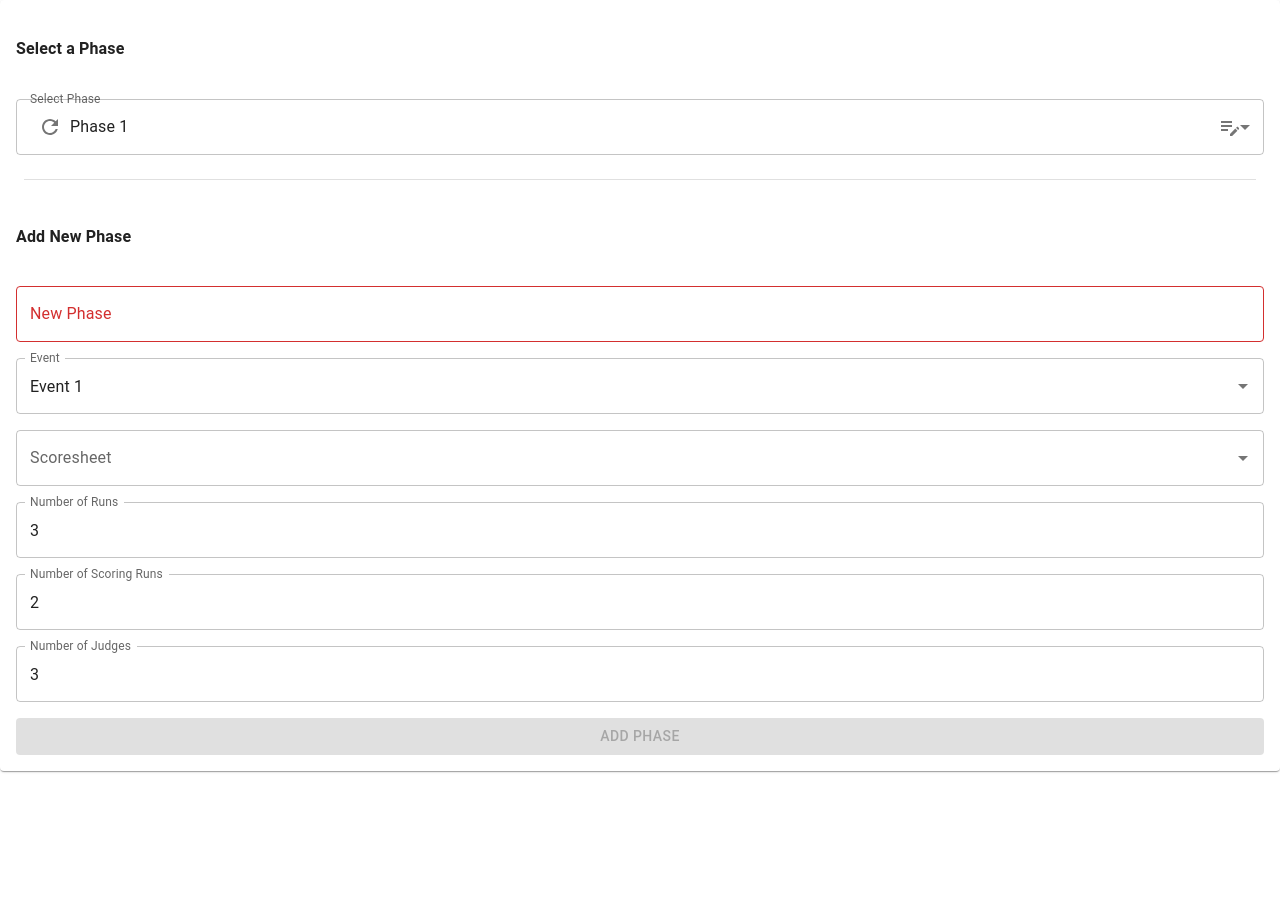
Test: PhaseSelector › edits an existing phase and shows the new name in the selector
expect the text "Select Phase" is shown: met, box [30,90,101,107]
Step 1. Click the button named "Edit selected phase" → point(1230, 126), box [1210,106,1250,146]
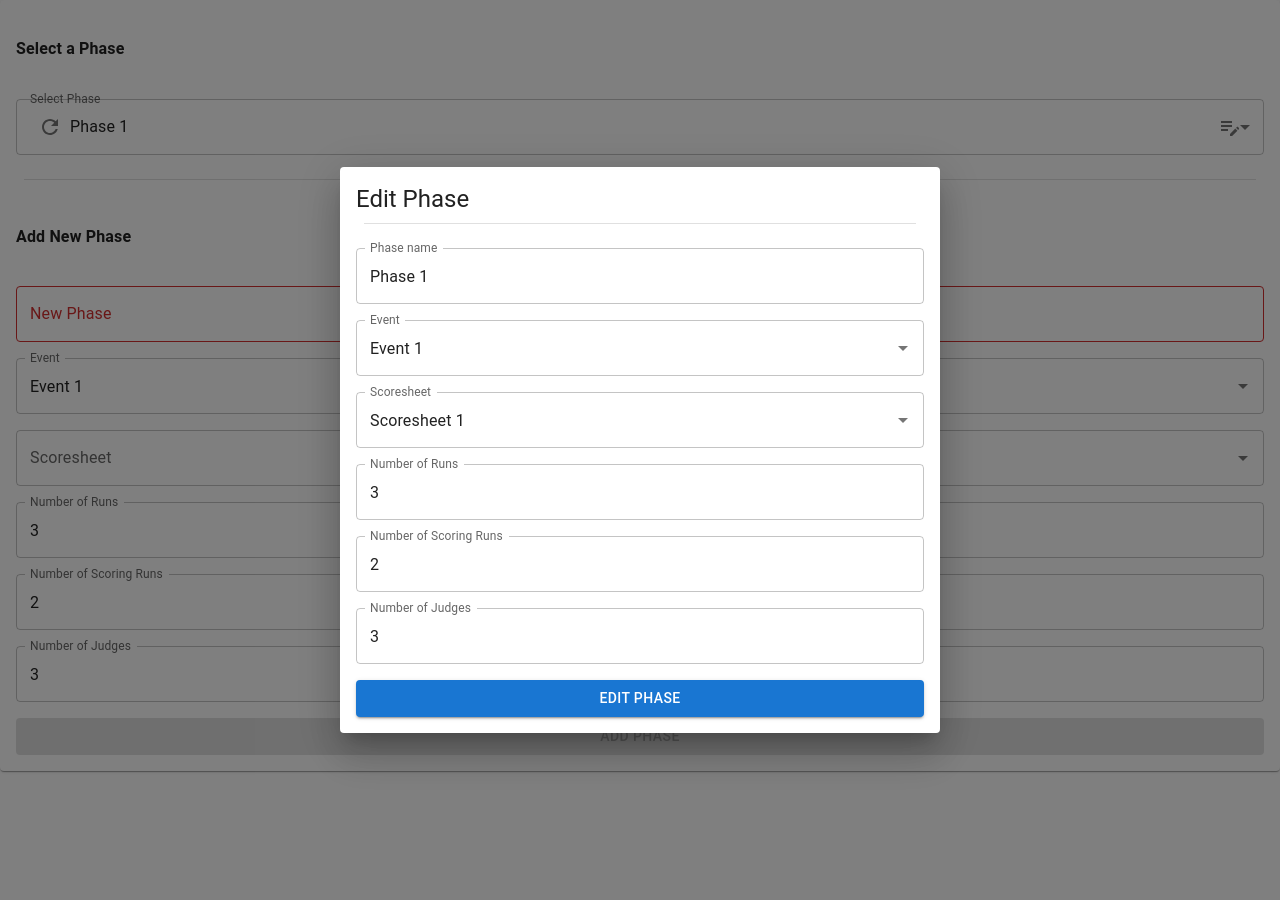
expect the heading with test id "edit-phase-dialog-title" reads "Edit Phase": met, box [356,185,469,213]
expect the field labelled "Phase name" holds "Phase 1": met
expect the number field labelled "Number of Runs" holds "3": met, box [356,464,924,520]
Step 2. Replace the text in the field labelled "Phase name" with "Grand Final" → point(640, 276), box [356,248,924,304]
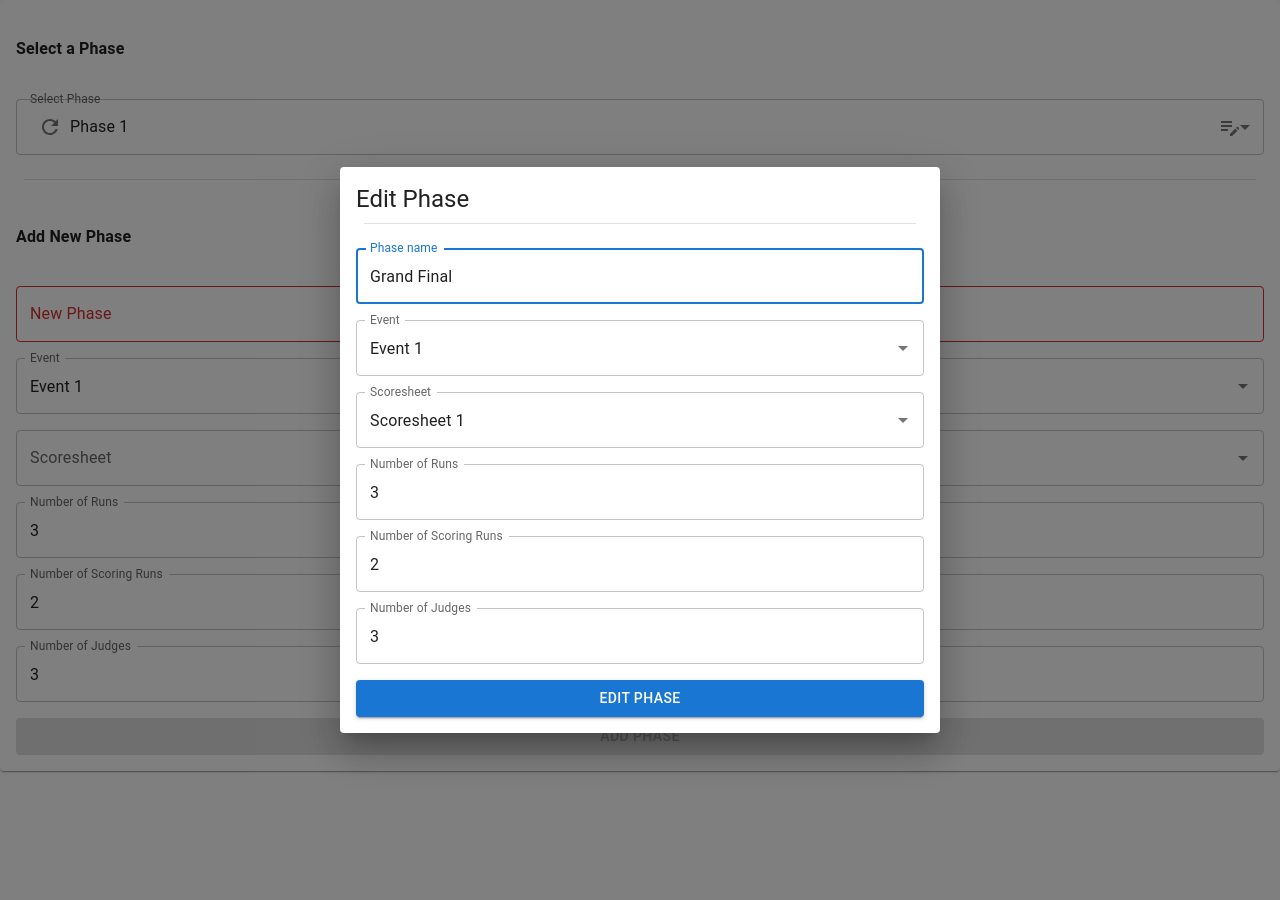
Step 3. Click the button "Edit Phase" → point(640, 699), box [356,680,924,717]
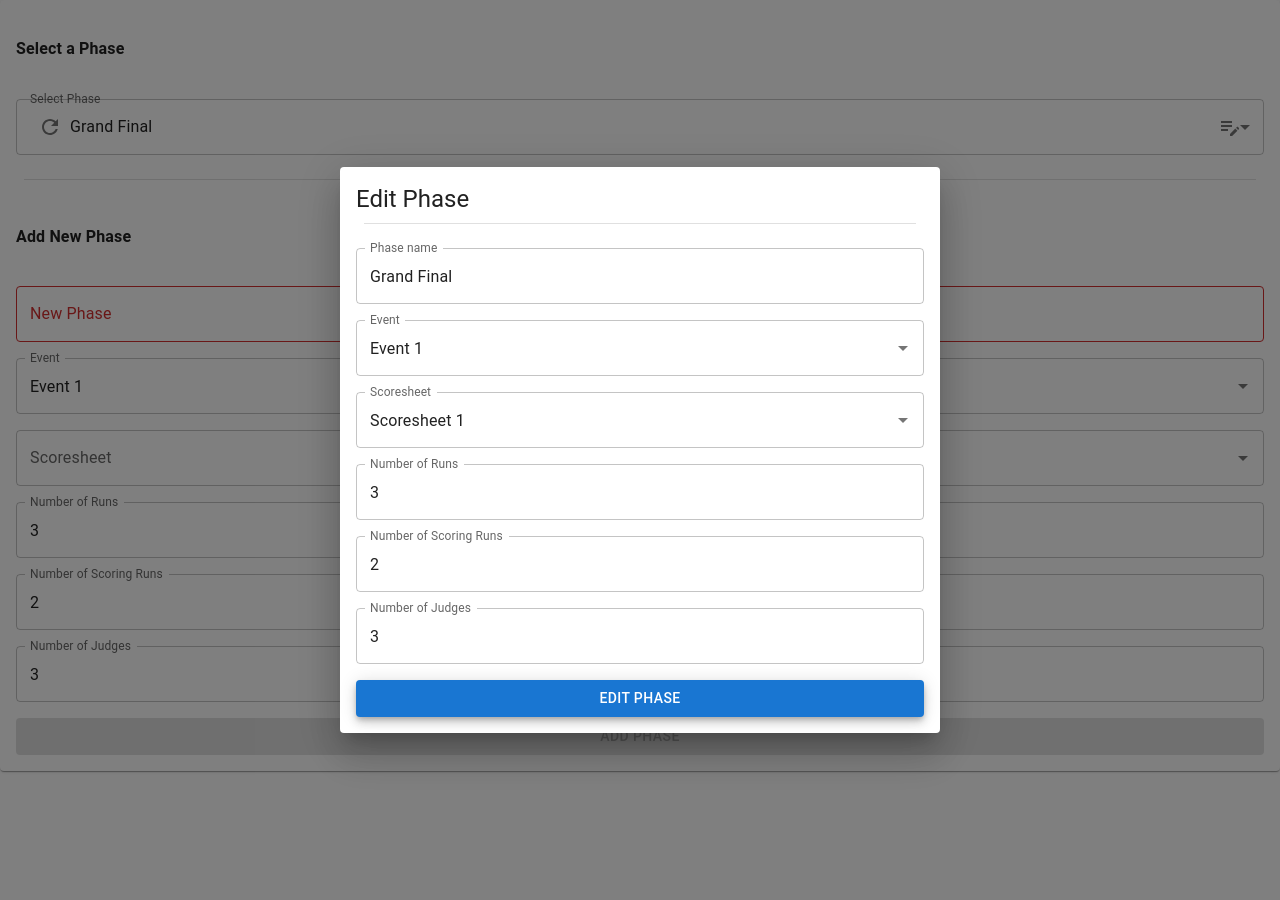
expect the dropdown "Grand Final" is shown: met, box [70,117,152,136]
